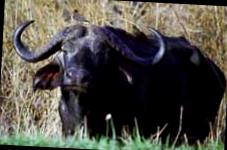Buffalo: (1, 10, 224, 147)
